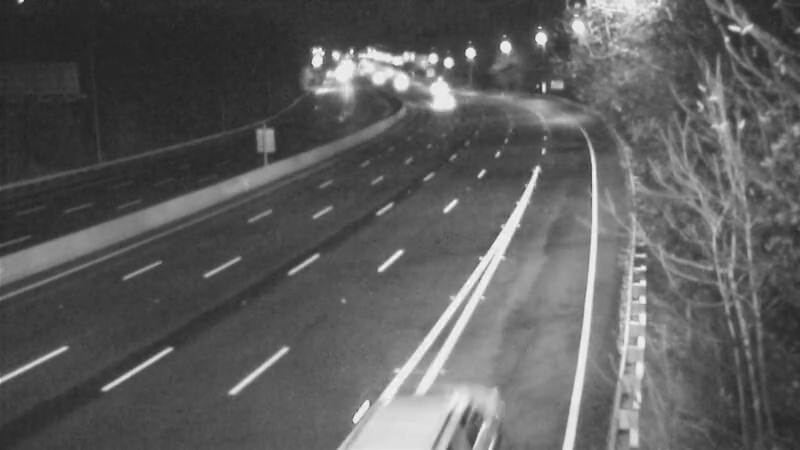vehicle: (358, 349, 468, 450), (414, 60, 464, 110), (417, 81, 467, 131)
